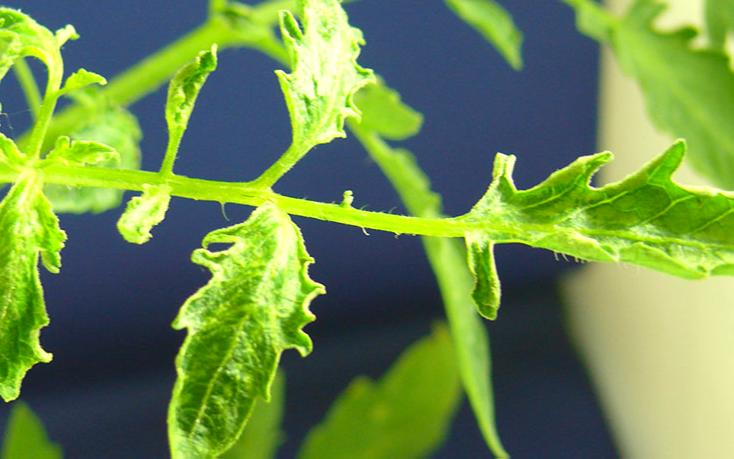Tomato leaf mosaic virus: (135, 202, 343, 459), (436, 155, 734, 312), (0, 178, 102, 421), (264, 0, 385, 157)
